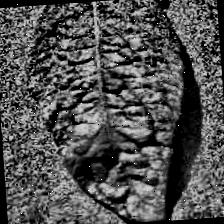spider mites: (20, 0, 192, 224)
